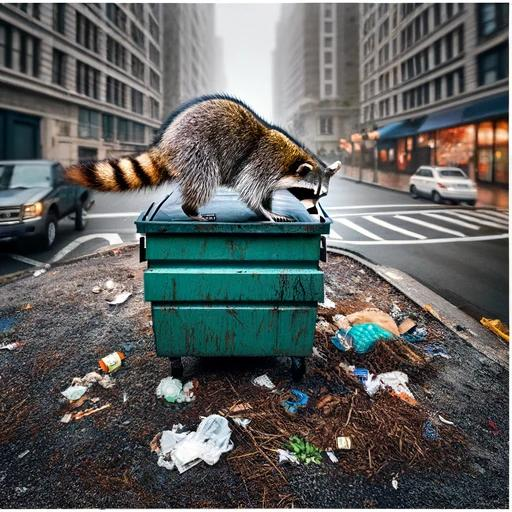raccoon: (59, 90, 345, 222)
